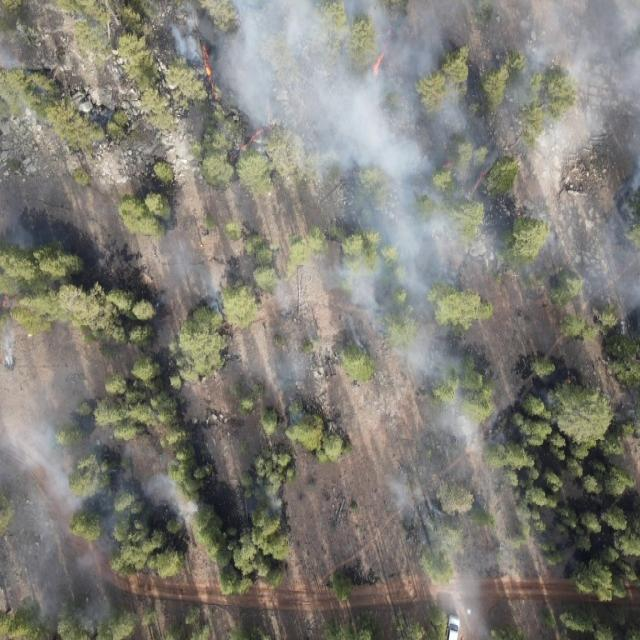fire: (224, 125, 271, 164), (196, 40, 223, 101), (470, 163, 490, 198), (371, 44, 389, 78), (0, 290, 18, 314), (440, 156, 458, 175), (559, 374, 575, 388)
smoke: (172, 0, 640, 181), (349, 326, 521, 640), (287, 178, 640, 328), (0, 391, 198, 637), (268, 283, 338, 428), (163, 236, 234, 320), (0, 4, 56, 97), (0, 189, 56, 261), (0, 330, 30, 376), (248, 484, 285, 521)
